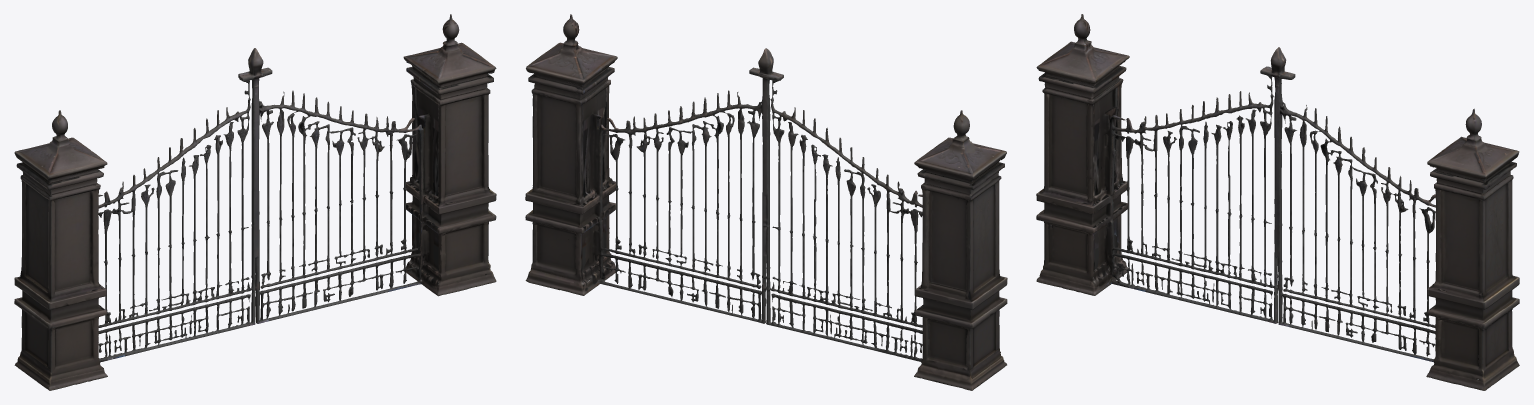
Rendered from Meshy_AI_Ornate_Iron_Gate_1002105921_texture.obj.
3 views of the same model, side by side, from view 1: azimuth 30°, elevation 25°; view 2: azimuth 150°, elevation 25°; view 3: azimuth 330°, elevation 25° (orthographic).
Visible parts, largest first — view 1: Meshy_AI_Ornate_Iron_Gate_1002105921_texture; view 2: Meshy_AI_Ornate_Iron_Gate_1002105921_texture; view 3: Meshy_AI_Ornate_Iron_Gate_1002105921_texture.
Part boxes in pixels (x1,y1,x2,y2): Meshy_AI_Ornate_Iron_Gate_1002105921_texture: [14, 14, 496, 390]; Meshy_AI_Ornate_Iron_Gate_1002105921_texture: [525, 14, 1007, 390]; Meshy_AI_Ornate_Iron_Gate_1002105921_texture: [1036, 14, 1519, 390].
Size of the model in its own units: 2.01 by 1.18 by 0.2741.
1 material, 1 textured.
